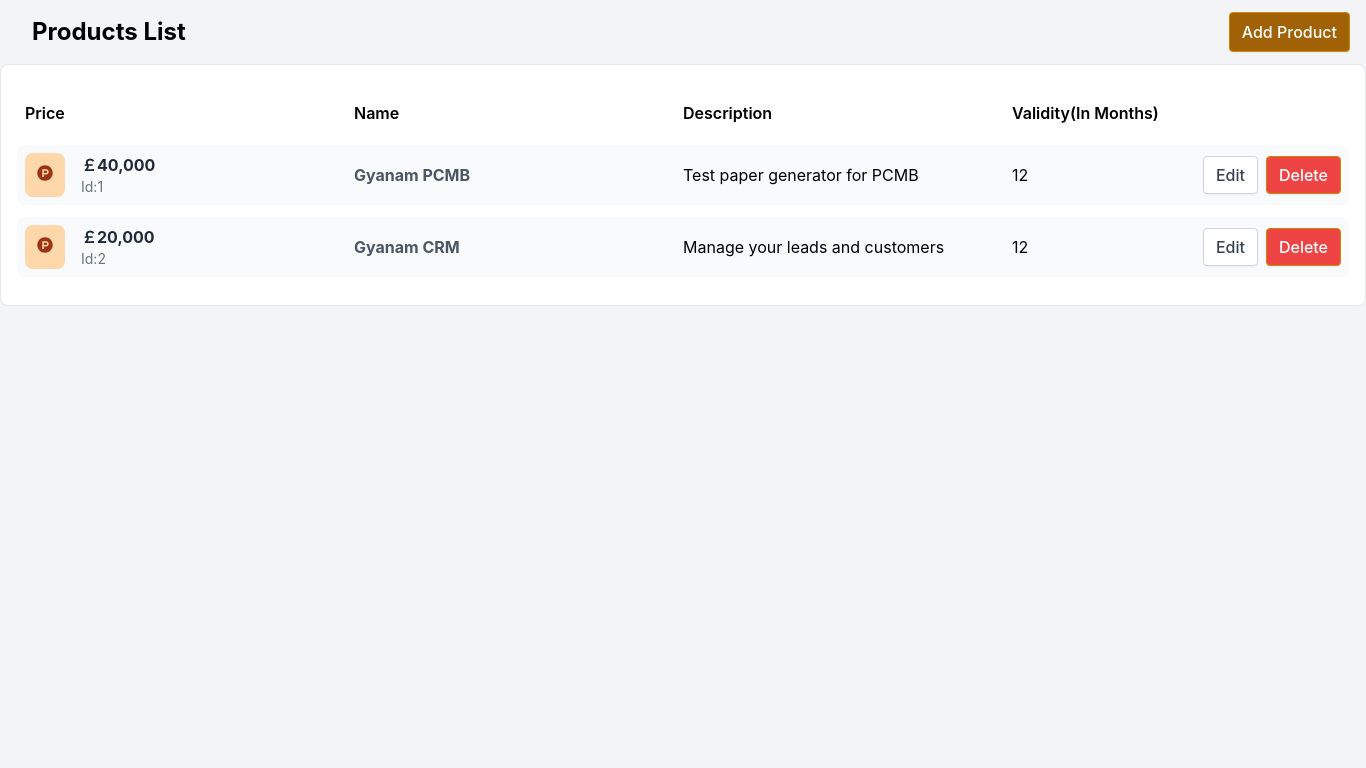
Test: ProductsList Component › should display error message- 'Product name must be grater than or equal to 5 characters.' when user click submit button without entering product name
Click the button "Add Product" at (1289, 32), box [1229, 12, 1350, 52]
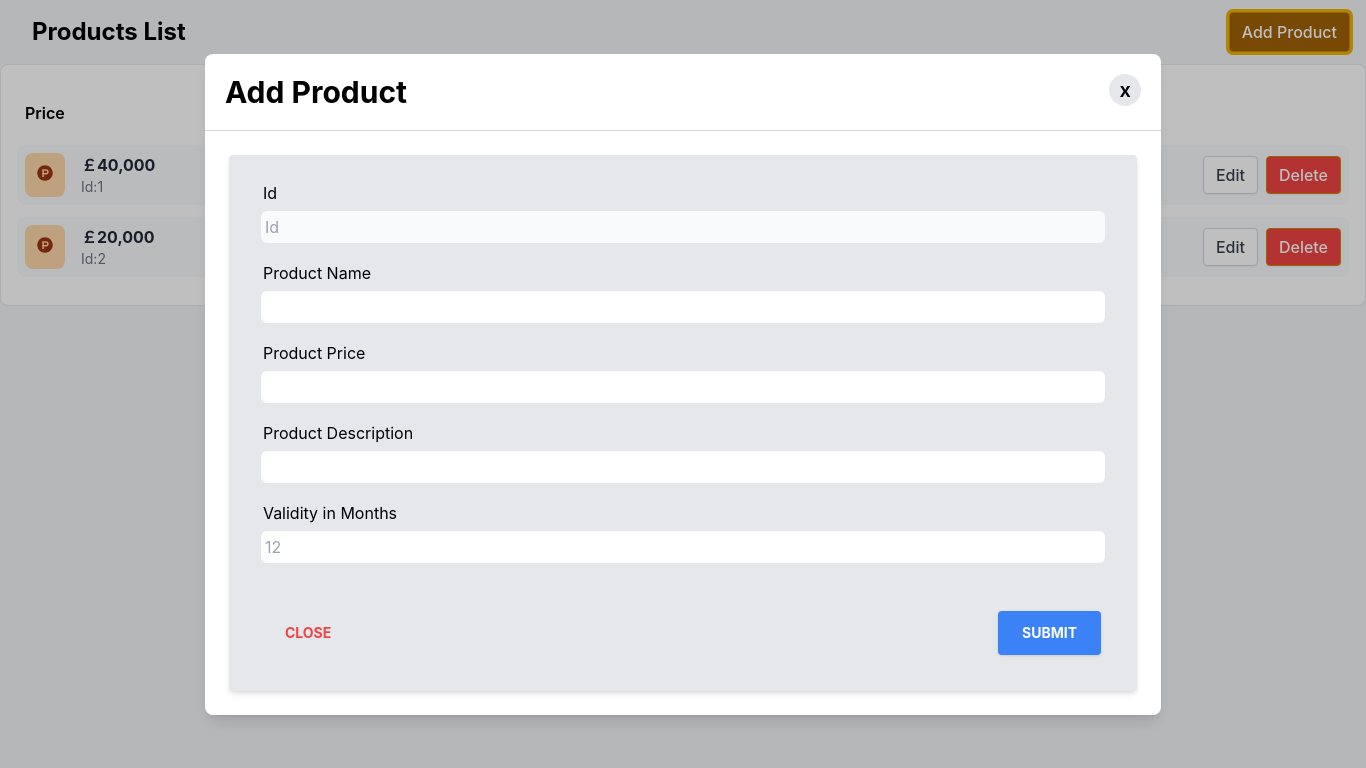
Click the button "Submit" at (1050, 632), box [998, 610, 1101, 654]
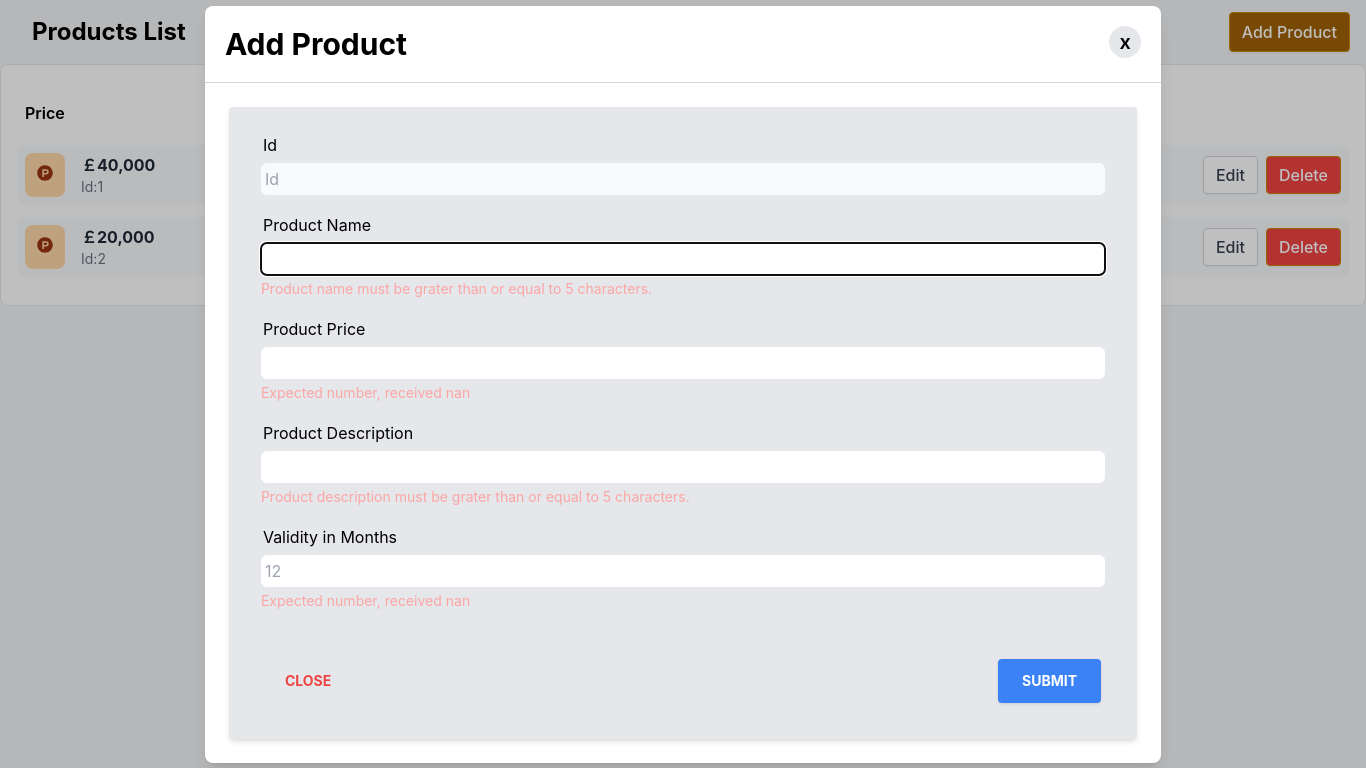
Check: the text "Product name must be grater than or equal to 5 characters." is shown, box [261, 280, 652, 296]
